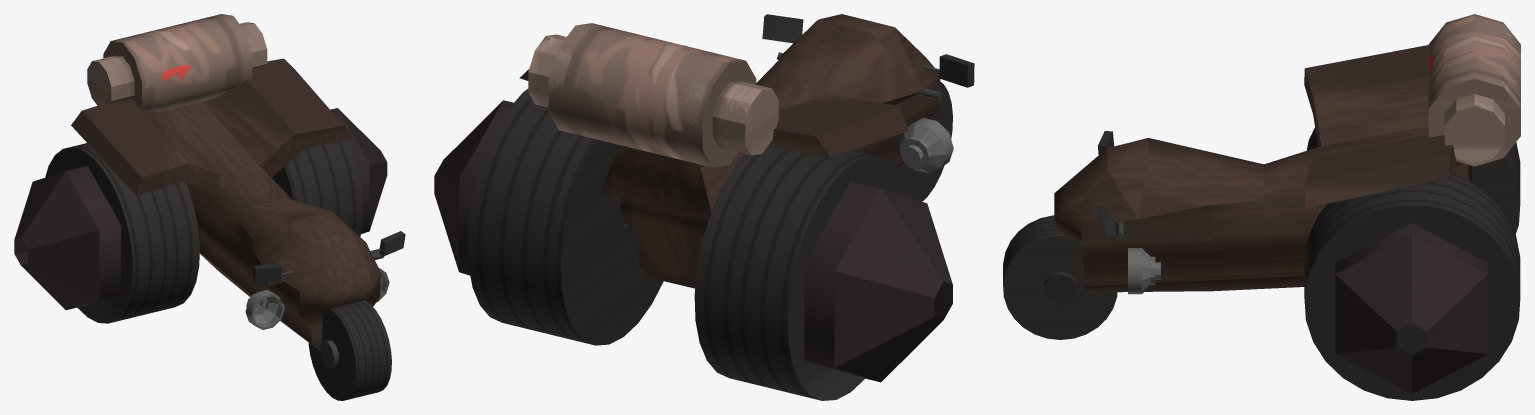
File: biket.FBX
3 renders of one model, left to right at view 1: azimuth 30°, elevation 25°; view 2: azimuth 150°, elevation 25°; view 3: azimuth 270°, elevation 25°, orthographic. The views are drawn at different scales.
Visible parts, largest first — view 1: Box001, Cylinder050, Cylinder007, Cylinder009, Cylinder005, Cylinder006, Cylinder008, Cylinder053, Box003, Box002, Cylinder052; view 2: Cylinder006, Box001, Cylinder007, Cylinder050, Cylinder009, Cylinder008, Cylinder053, Cylinder005, Box002, Box003; view 3: Box001, Cylinder006, Cylinder008, Cylinder050, Cylinder005, Cylinder007, Cylinder054, Cylinder051.
Part boxes in pixels (x1,y1,x2,y2): Box001: (71,58,380,350); Cylinder050: (87,14,267,111); Cylinder007: (45,143,199,323); Cylinder009: (14,166,120,310); Cylinder005: (308,300,391,400); Cylinder006: (271,140,362,236); Cylinder008: (330,108,387,233); Cylinder053: (245,290,284,329); Box003: (252,263,281,283); Box002: (379,231,405,256); Cylinder052: (320,340,338,367); Cylinder006: (467,89,663,345); Box001: (519,14,940,288); Cylinder007: (694,147,909,400); Cylinder050: (528,23,778,167); Cylinder009: (804,181,952,382); Cylinder008: (434,100,513,275); Cylinder053: (899,117,953,173); Cylinder005: (897,82,952,201); Box002: (762,14,803,43); Box003: (939,54,974,87); Box001: (1054,45,1471,292); Cylinder006: (1304,173,1520,400); Cylinder008: (1335,223,1488,393); Cylinder050: (1428,14,1520,166); Cylinder005: (1003,215,1117,339); Cylinder007: (1307,127,1520,234); Cylinder054: (1128,248,1160,294); Cylinder051: (1044,271,1076,305).
Size of the model in its own units: 131 by 84.02 by 137.
